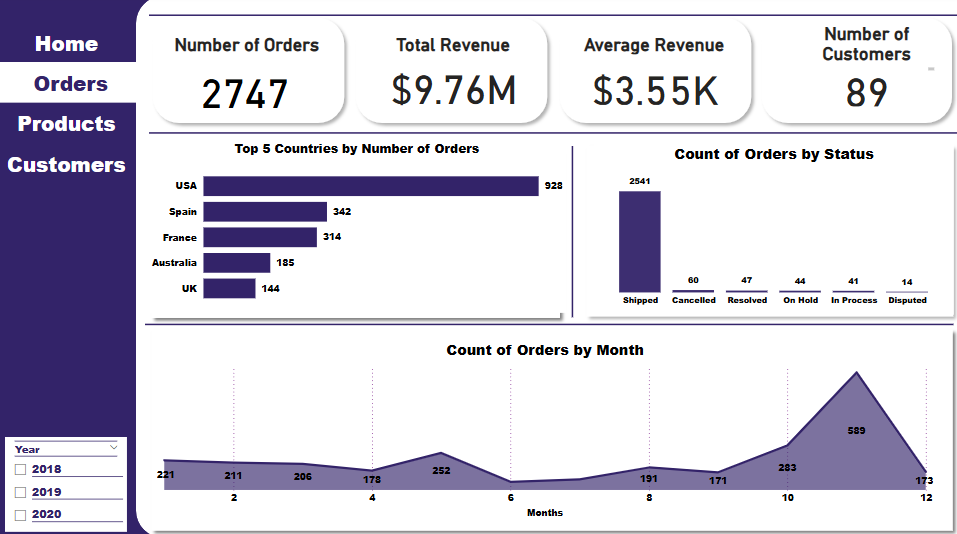

Layout of this report page (visuals, bound fields, positions):
{"tool":"powerbi","page":{"name":"Orders","canvas":[1280,720],"ordinal":1},"visuals":[{"type":"shape","box":[739.9,20.1,272.4,157.9],"z":0,"group":"g1"},{"type":"slicer","fields":{"Values":["Orders.Year"]},"box":[11.7,475.6,144.9,27.8],"z":0},{"type":"shape","box":[1009.2,20.1,270.9,157.9],"z":1000,"group":"g1"},{"type":"actionButton","box":[640,36.3,152.9,52],"z":1000},{"type":"shape","box":[469,20.1,272.4,157.9],"z":2000,"group":"g1"},{"type":"shape","box":[766.1,244.3,290,138.7],"z":2000},{"type":"shape","box":[0,0,989,719.7],"z":3000},{"type":"shape","box":[199.7,20.1,272.4,157.9],"z":3000,"group":"g1"},{"type":"shape","box":[185.7,0,1094.3,719.7],"z":4000},{"type":"textbox","title":"Number of Orders","box":[208.4,50.9,249.2,29.4],"z":4000,"group":"g1"},{"type":"actionButton","box":[1.5,35.1,184.4,54.1],"z":5000},{"type":"actionButton","box":[1.5,87.8,196.1,54.1],"z":6000},{"type":"textbox","title":"Total Revenue","box":[489.1,51.1,249.2,29.4],"z":7000},{"type":"actionButton","box":[1.5,194.6,184.4,54.1],"z":8000},{"type":"actionButton","box":[1.5,141.5,184.4,54.1],"z":9000},{"type":"group","id":"g1","title":"Group 1","box":[199.7,20.1,1080.3,157.9],"z":10000},{"type":"card","fields":{"Values":["Orders.NumberOf Orders"]},"box":[230.6,85.1,198.1,74.3],"z":11000},{"type":"textbox","title":"Total Revenue","box":[489.1,51.1,236.8,29.4],"z":12000},{"type":"textbox","title":"Average Revenue","box":[760,51.1,229.1,29.4],"z":13000},{"type":"textbox","title":"Number of Customers","box":[1061.8,35.6,190.4,68.1],"z":14000},{"type":"card","fields":{"Values":["Orders.Total Revenue"]},"box":[501.5,85.1,215.1,65],"z":15000},{"type":"card","fields":{"Values":["Orders.AVG Sales"]},"box":[778.5,88.2,195,61.9],"z":16000},{"type":"card","fields":{"Values":["Customers.NumberOf Customers"]},"box":[1114.4,91.3,85.1,60.4],"z":17000},{"type":"shape","box":[202.8,37.1,1075.7,289.4],"z":18000},{"type":"shape","box":[775.4,190.4,504.6,244.5],"z":19000},{"type":"clusteredColumnChart","title":"Count of Orders by Status","fields":{"Category":["Orders.Status"],"Y":["CountNonNull(Orders.Status)"]},"box":[794,195,478.3,227.5],"z":20000},{"type":"shape","box":[198.1,434.9,1081.9,284.8],"z":21000},{"type":"stackedAreaChart","title":"Count of Orders   by Month","fields":{"Category":["Orders.Month"],"Y":["CountNonNull(Orders.Order ID)"]},"box":[208.9,455,1041.6,244.5],"z":22000},{"type":"shape","box":[198.1,286.3,1074.1,298.7],"z":23000},{"type":"shape","box":[616,199.7,298.7,227.5],"z":24000},{"type":"shape","box":[198.1,195,560.3,241.5],"z":25000},{"type":"clusteredBarChart","title":"Top 5 Countries by Number of Orders","fields":{"Category":["Customers.Country"],"Y":["CountNonNull(Orders.Order ID)"]},"box":[200.1,190.3,557.5,231.1],"z":26000},{"type":"shape","box":[202.8,0,1077.2,51.1],"z":27000},{"type":"slicer","fields":{"Values":["Orders.Year"]},"box":[11.7,585.4,162.4,125.9],"z":27001}]}

Visuals, with their boxes in screenshot pixels (x1, y1, x2, y2), scaled from the page's 1280x720 canvas onto the 957x534 screenshot:
shape: 553:15:757:132
slicer - Orders.Year: 9:353:117:373
shape: 755:15:956:132
actionButton: 478:27:593:65
shape: 351:15:554:132
shape: 573:181:790:284
shape: 0:0:739:533
shape: 149:15:353:132
shape: 139:0:956:533
"Number of Orders" textbox: 156:38:342:60
actionButton: 1:26:139:66
actionButton: 1:65:148:105
"Total Revenue" textbox: 366:38:552:60
actionButton: 1:144:139:184
actionButton: 1:105:139:145
"Group 1" group: 149:15:956:132
card - Orders.NumberOf Orders: 172:63:321:118
"Total Revenue" textbox: 366:38:543:60
"Average Revenue" textbox: 568:38:740:60
"Number of Customers" textbox: 794:26:936:77
card - Orders.Total Revenue: 375:63:536:111
card - Orders.AVG Sales: 582:65:728:111
card - Customers.NumberOf Customers: 833:68:897:113
shape: 152:28:956:242
shape: 580:141:956:323
"Count of Orders by Status" clusteredColumnChart: 594:145:951:313
shape: 148:323:956:533
"Count of Orders   by Month" stackedAreaChart: 156:337:935:519
shape: 148:212:951:434
shape: 461:148:684:317
shape: 148:145:567:324
"Top 5 Countries by Number of Orders" clusteredBarChart: 150:141:566:313
shape: 152:0:956:38
slicer - Orders.Year: 9:434:130:528
